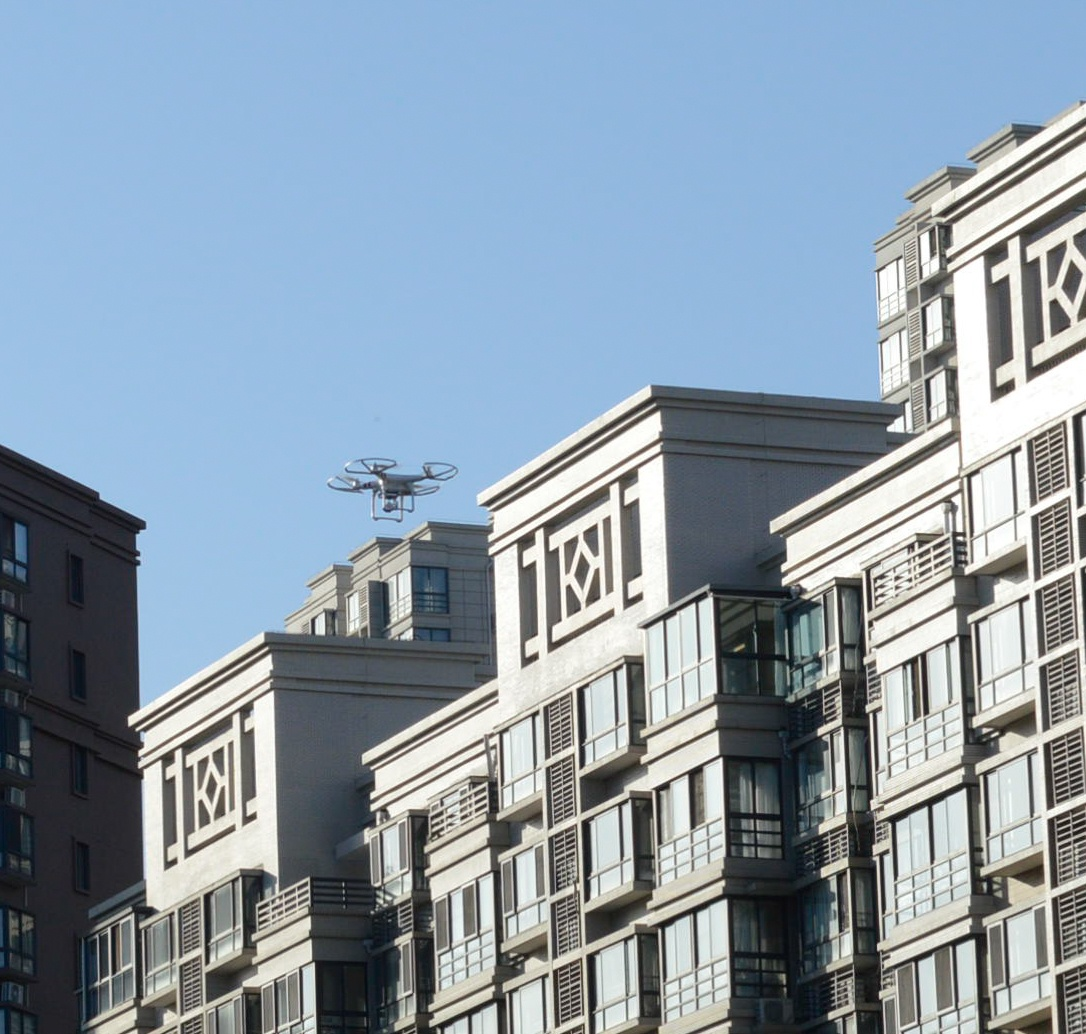DJI: (324, 456, 459, 521)
